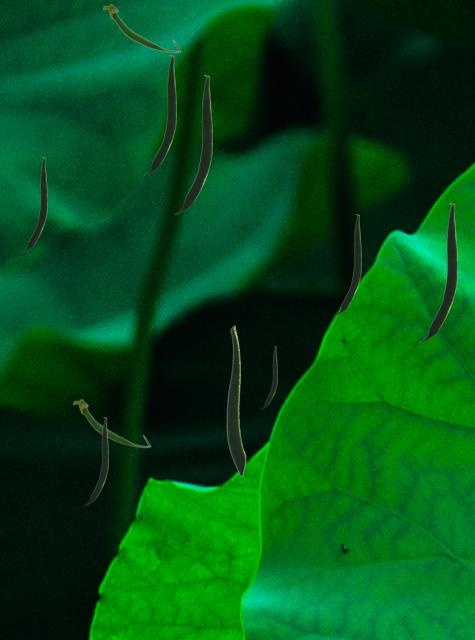french_bean: (174, 75, 211, 213), (419, 203, 456, 341), (72, 398, 150, 447), (102, 3, 180, 52), (143, 55, 175, 174), (226, 325, 245, 476), (335, 214, 360, 314), (22, 157, 46, 251), (85, 417, 107, 504), (261, 346, 276, 408)
